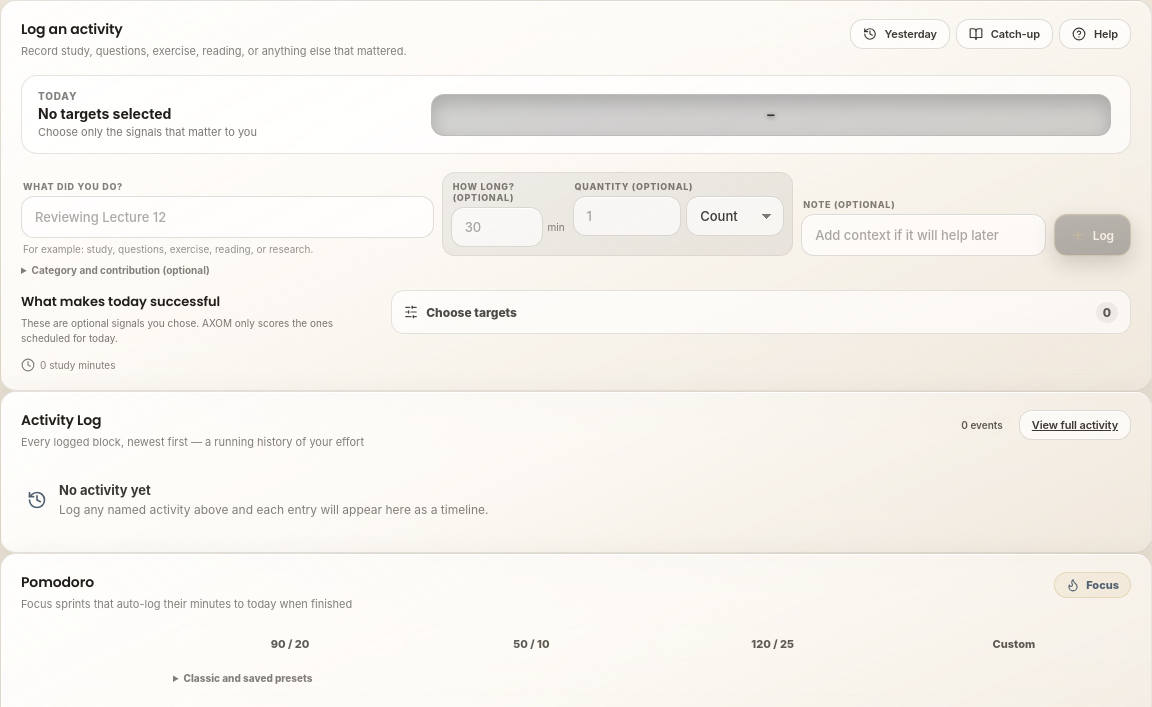
ProductivityPage daily console › keeps historical views read-only
The image size is (1152, 707).
Click the button "Yesterday" at [900, 34], box [850,19,950,49]
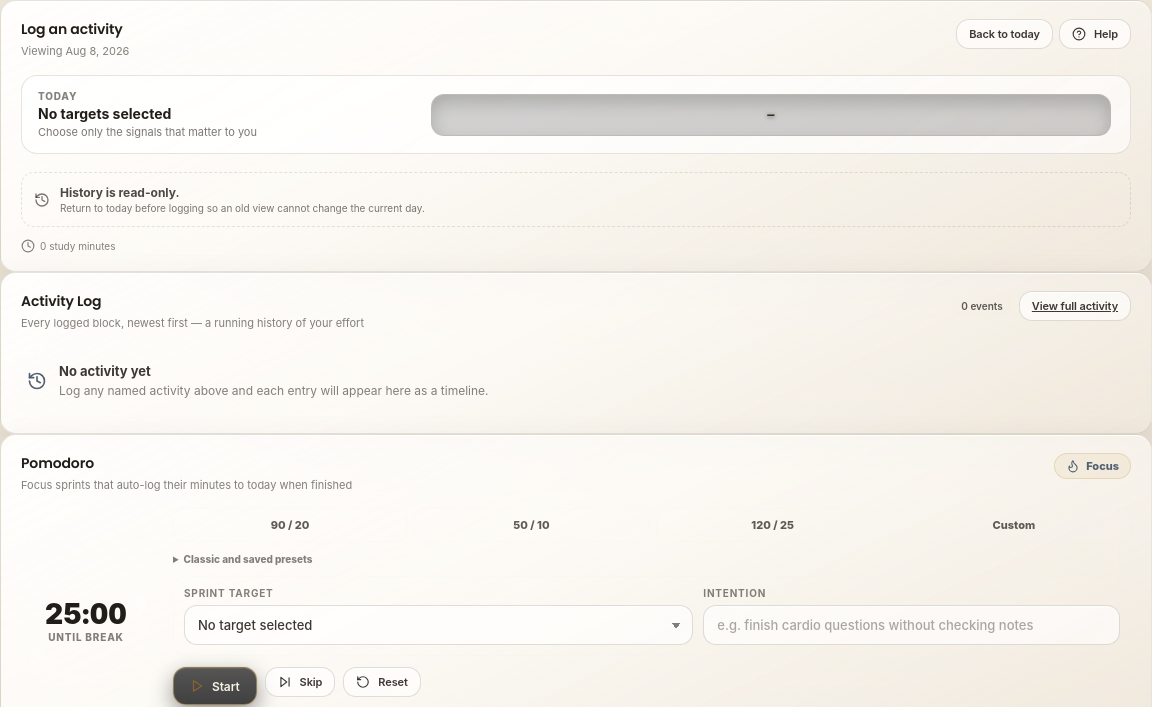
Now the text labelled "What did you do?" is gone
Now the text "History is read-only." is shown, box [60,185,180,200]
